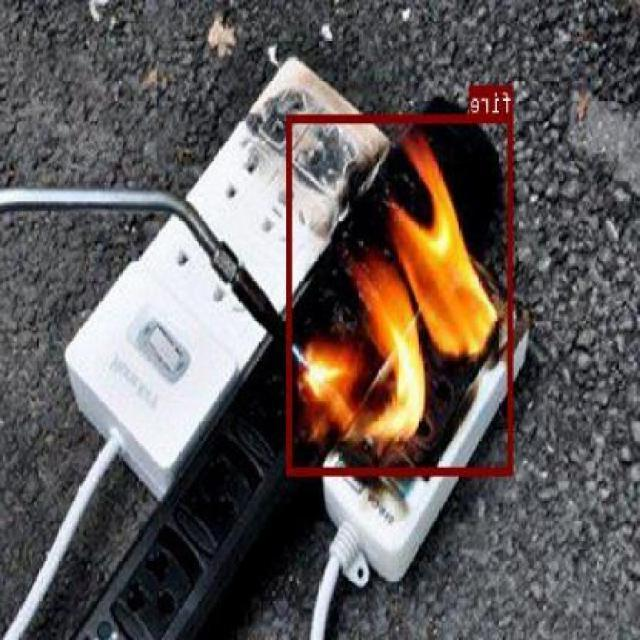Fire: (288, 114, 514, 474)
